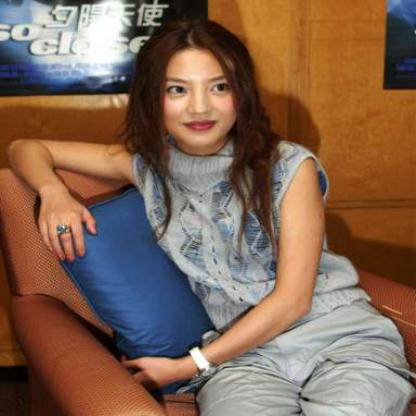face: (153, 26, 243, 148)
